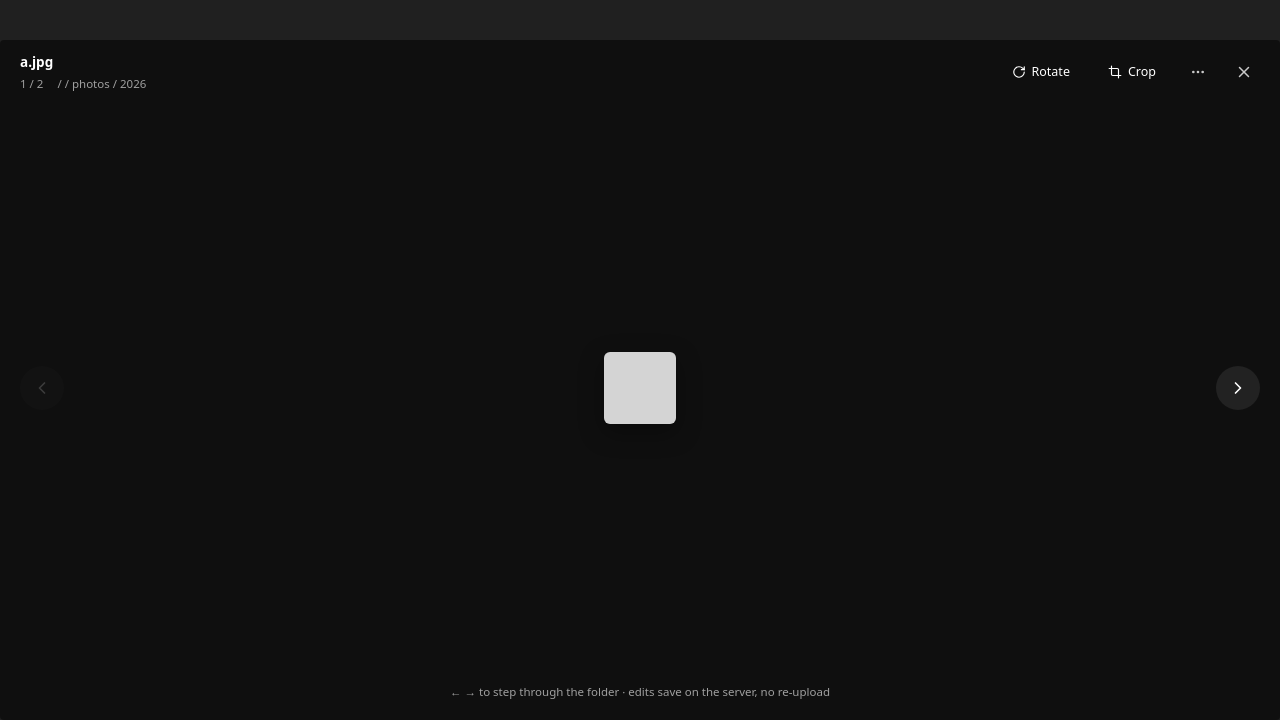
Scenario: QuickLookOverlay open folder › closes the menu once it has acted
Click the button named "More actions" at (1198, 72), box [1182,56,1214,88]
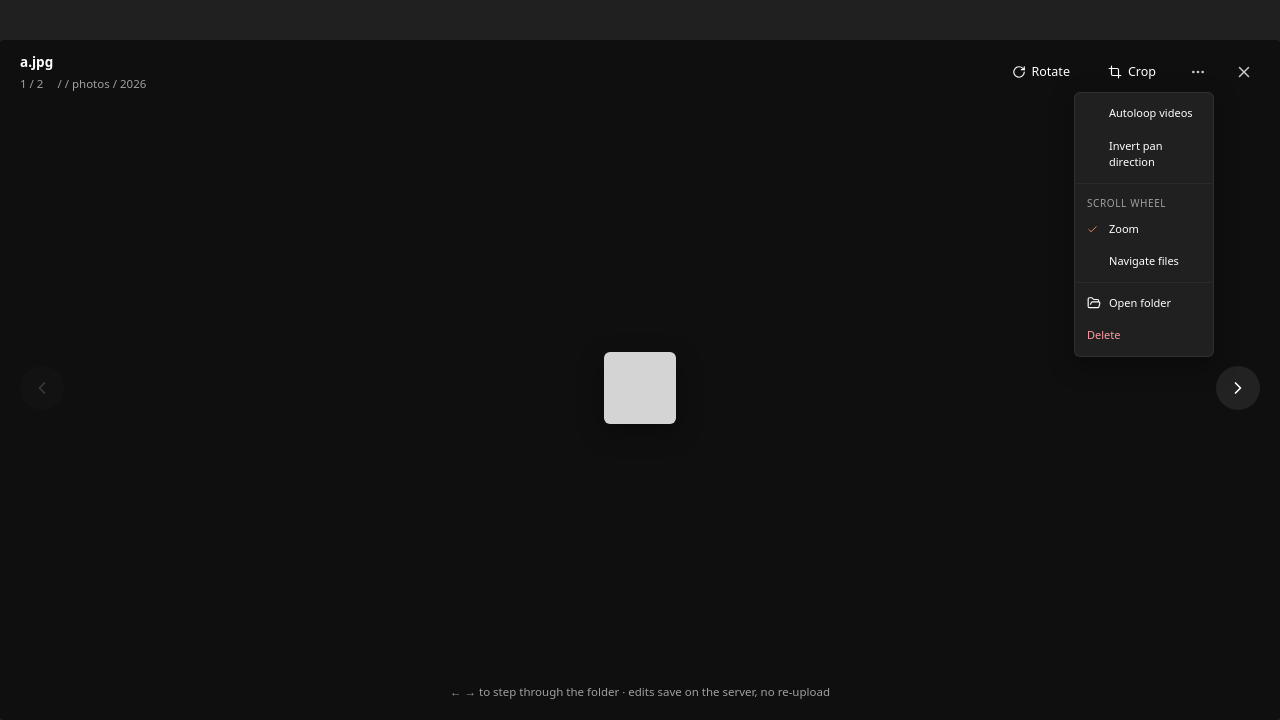
Click the button "Open folder" at (1144, 303), box [1075,287,1213,319]
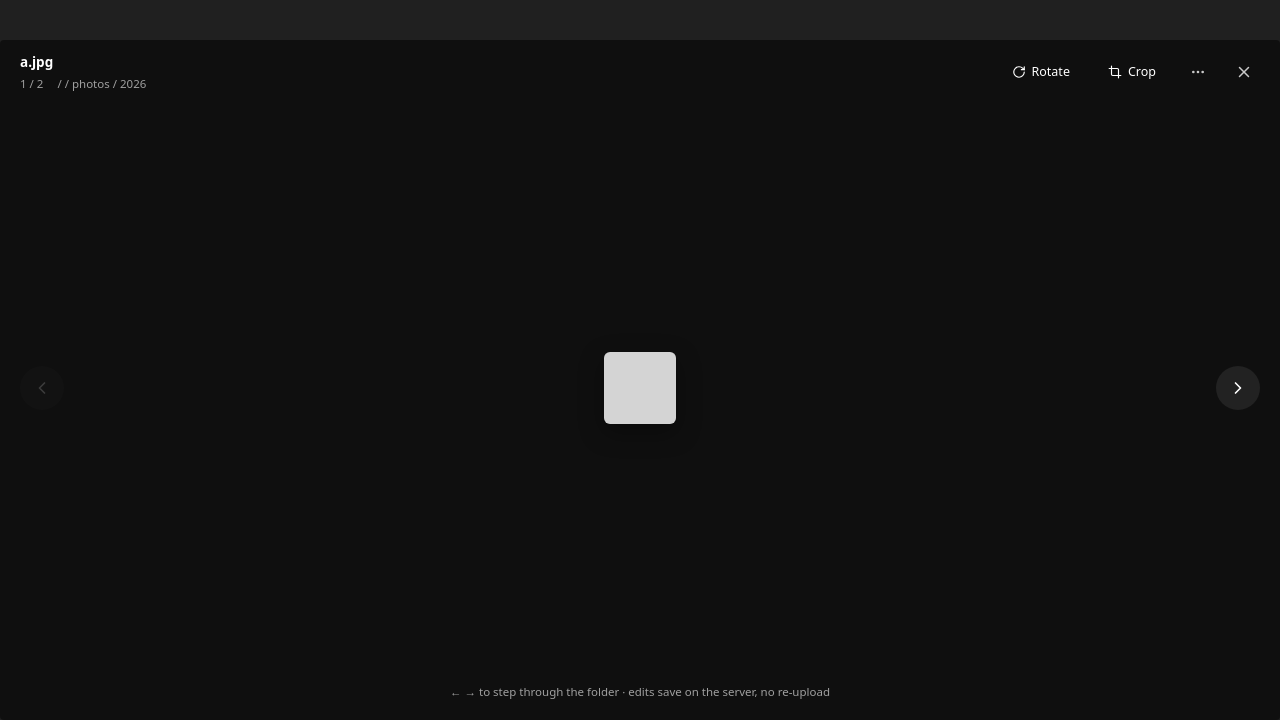
Expected: the button "Open folder" is gone
